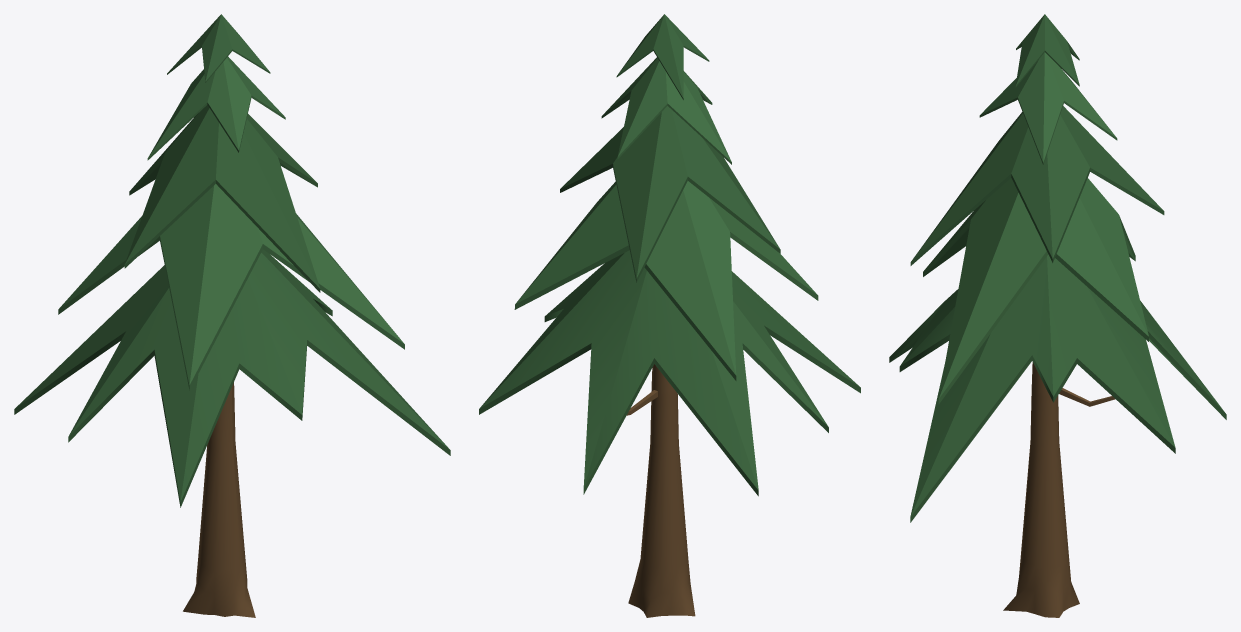
File: tree_small.fbx
3 views of the same model, side by side, from view 1: azimuth 30°, elevation 25°; view 2: azimuth 150°, elevation 25°; view 3: azimuth 270°, elevation 25° (orthographic).
Visible parts, largest first — view 1: tree_leaves12, tree_leaves11, tree_leaves10, tree_small, tree_leaves9, tree_leaves8; view 2: tree_leaves12, tree_leaves11, tree_leaves10, tree_small, tree_leaves9, tree_leaves8; view 3: tree_leaves12, tree_leaves11, tree_leaves10, tree_small, tree_leaves9, tree_leaves8.
Boxes of the visible parts, <box> form: tree_leaves12: <box>14,249,450,507</box>; tree_leaves11: <box>58,184,404,390</box>; tree_leaves10: <box>124,105,320,292</box>; tree_small: <box>183,382,255,617</box>; tree_leaves9: <box>147,56,285,160</box>; tree_leaves8: <box>167,14,270,82</box>; tree_leaves12: <box>479,250,860,496</box>; tree_leaves11: <box>514,181,818,380</box>; tree_leaves10: <box>560,106,780,282</box>; tree_small: <box>626,364,695,617</box>; tree_leaves9: <box>601,57,731,164</box>; tree_leaves8: <box>616,14,709,99</box>; tree_leaves12: <box>889,254,1226,522</box>; tree_leaves11: <box>923,178,1148,404</box>; tree_leaves10: <box>910,106,1164,265</box>; tree_small: <box>1003,362,1115,617</box>; tree_leaves9: <box>979,52,1117,164</box>; tree_leaves8: <box>1015,14,1079,87</box>.
Size of the model in its own units: 344 by 607 by 315.
